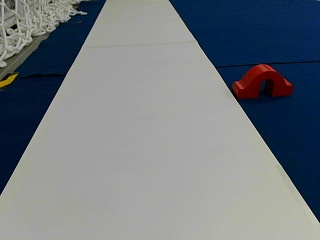bridge: (234, 64, 292, 96)
